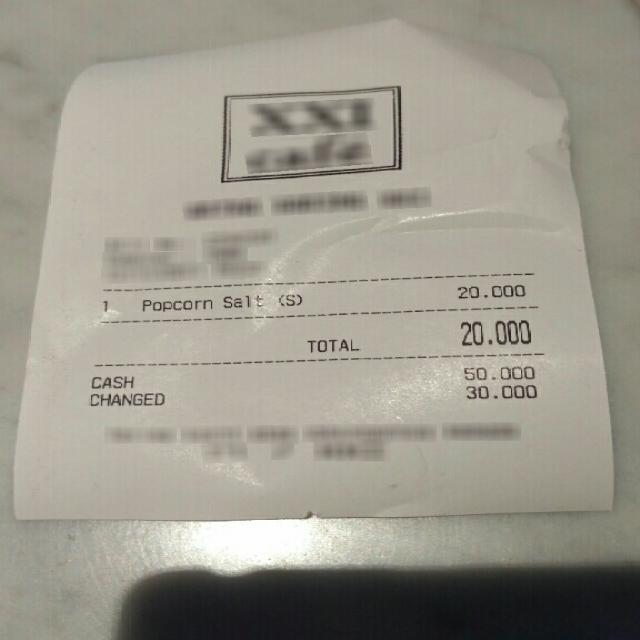kertas: (5, 16, 614, 525)
